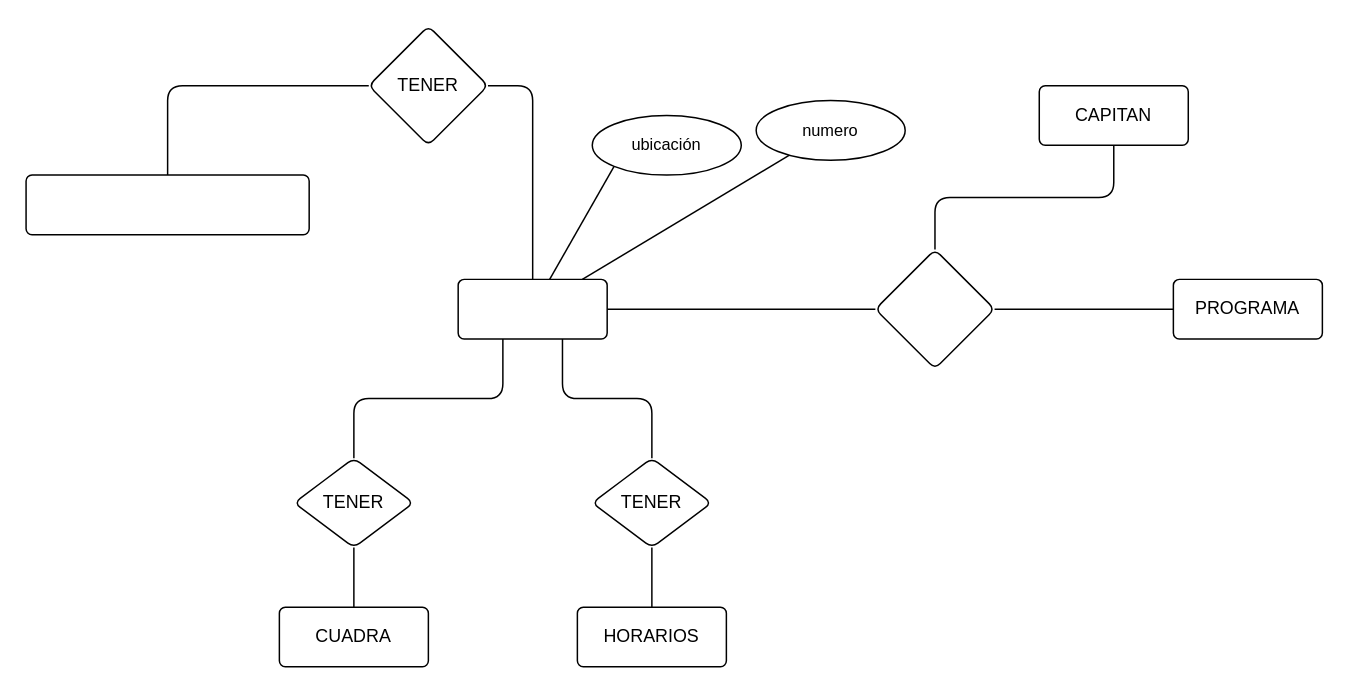
Some shapes in this 1348 by 693 pixel diagram are drawn without their labels. The centre of each missing label's shape, as x and y in pixels:
"ASIGNAR" belongs at (934,308).
"PUNTO_ENCUENTRO" belongs at (167,204).
"TERRITORIO" belongs at (532,308).
